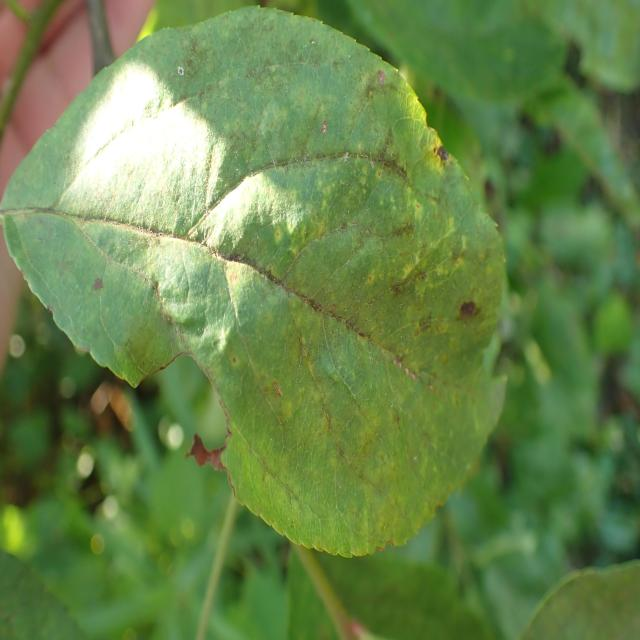scab: (18, 5, 508, 552)
